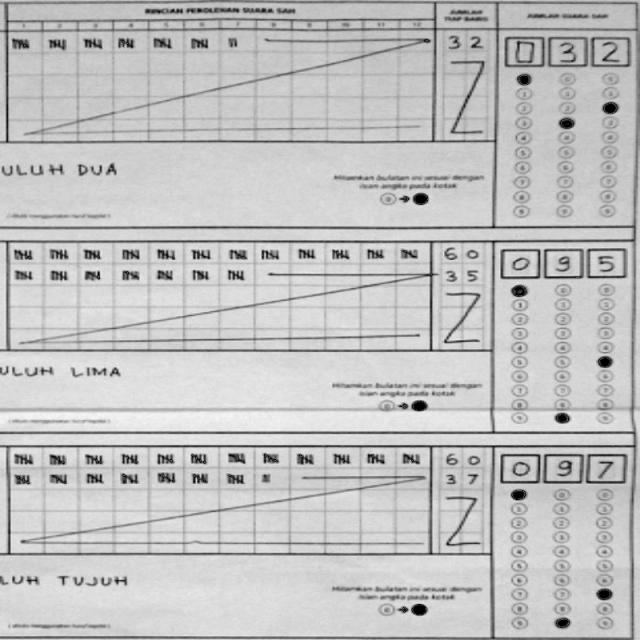Suara: (492, 449, 626, 486), (496, 31, 630, 67), (496, 245, 630, 278)
